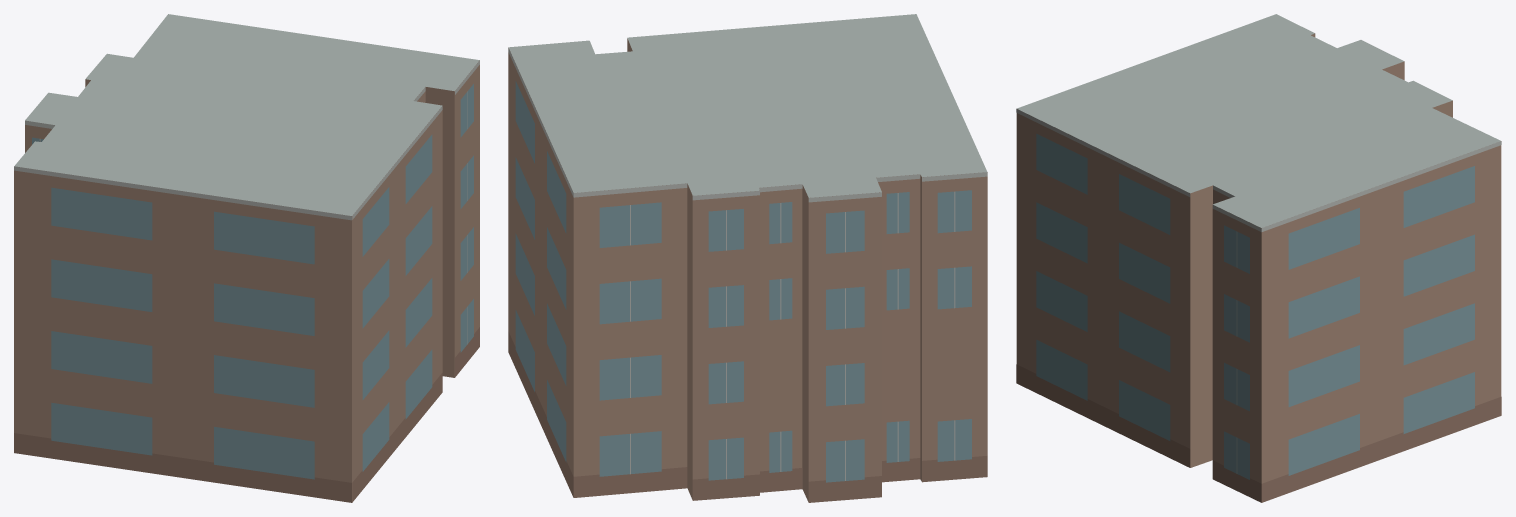
File: survey-upis-32630963.glb
3 renders of one model, left to right at view 1: azimuth 30°, elevation 25°; view 2: azimuth 150°, elevation 25°; view 3: azimuth 270°, elevation 25°, orthographic. The views are drawn at different scales.
Parts seen in each view (by area): view 1: survey-upis-32630963.tmp; view 2: survey-upis-32630963.tmp; view 3: survey-upis-32630963.tmp.
Boxes of the visible parts, x1,y1,x2,y2 form: survey-upis-32630963.tmp: (14,14,479,502); survey-upis-32630963.tmp: (508,14,987,502); survey-upis-32630963.tmp: (1016,14,1501,502).
Size of the model in its own units: 27.42 by 16.4 by 26.25.
